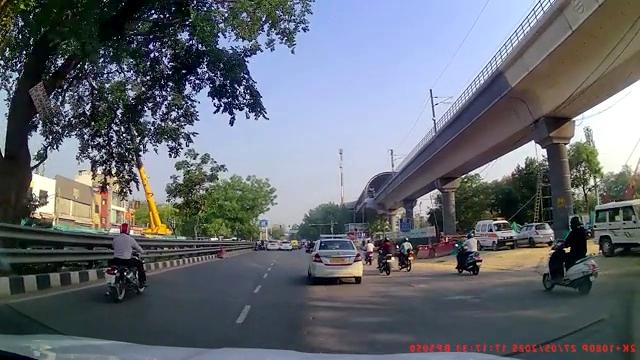motorcycle_with_helmet: (540, 216, 599, 296), (104, 221, 149, 303), (454, 230, 483, 276)
